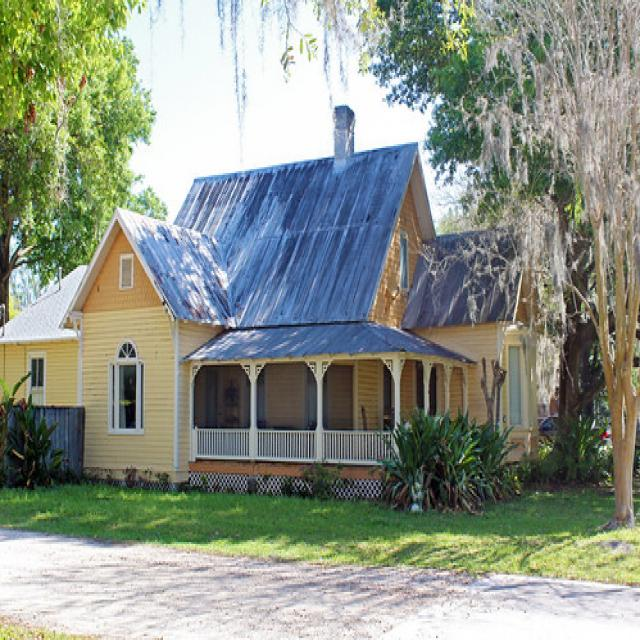Normal_building: (2, 114, 542, 512)
